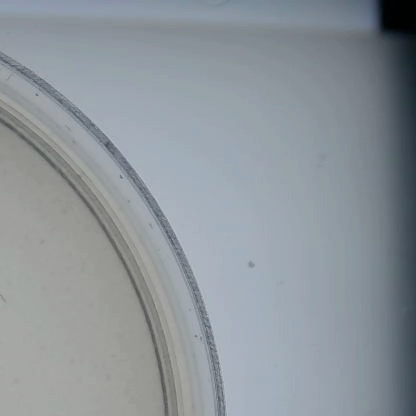worm: (0, 283, 13, 307)
